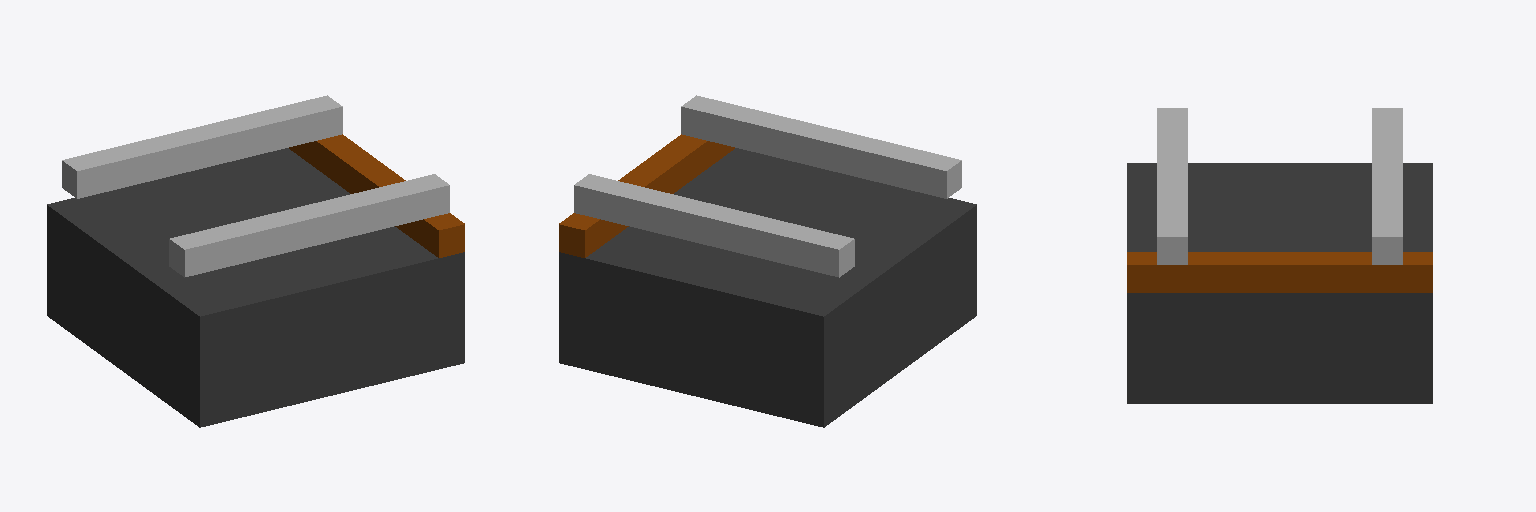
3 renders of one model, left to right at view 1: azimuth 30°, elevation 25°; view 2: azimuth 150°, elevation 25°; view 3: azimuth 270°, elevation 25°, orthographic.
Parts seen in each view (by area): view 1: object 1; view 2: object 1; view 3: object 1.
Part boxes in pixels (bbox=[...]): object 1: bbox=[47, 95, 464, 427]; object 1: bbox=[559, 95, 976, 427]; object 1: bbox=[1127, 108, 1432, 403].
Size of the model in its own units: 1 by 0.6 by 1.
Materials: 1 (1 with a texture image).